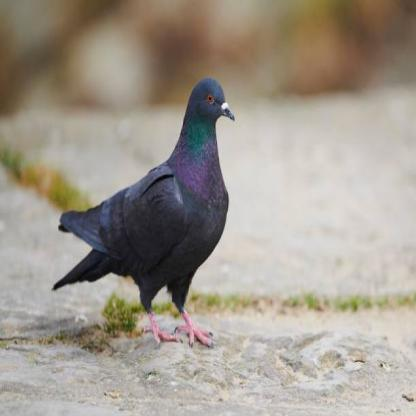Rock Pigeon: (57, 79, 238, 325)
